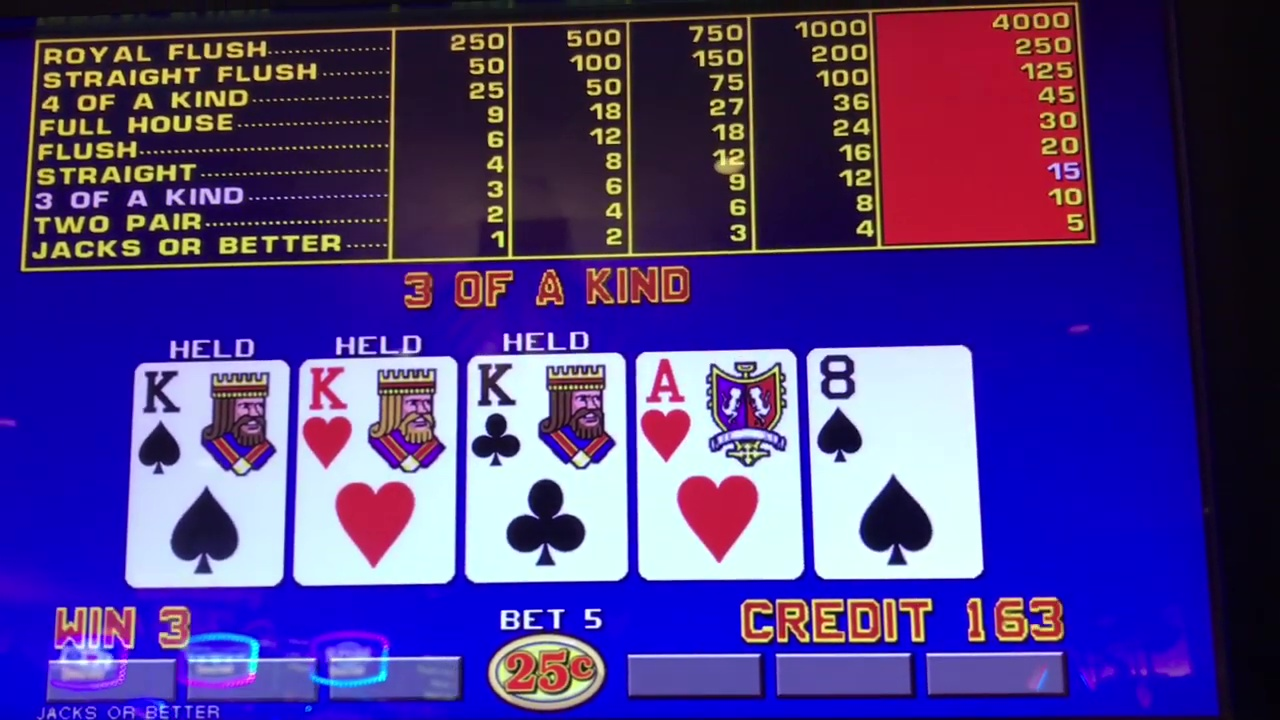CK: (474, 358, 620, 478)
HA: (641, 354, 794, 472)
HK: (304, 362, 448, 482)
S8: (816, 354, 974, 473)
SK: (136, 362, 283, 485)
